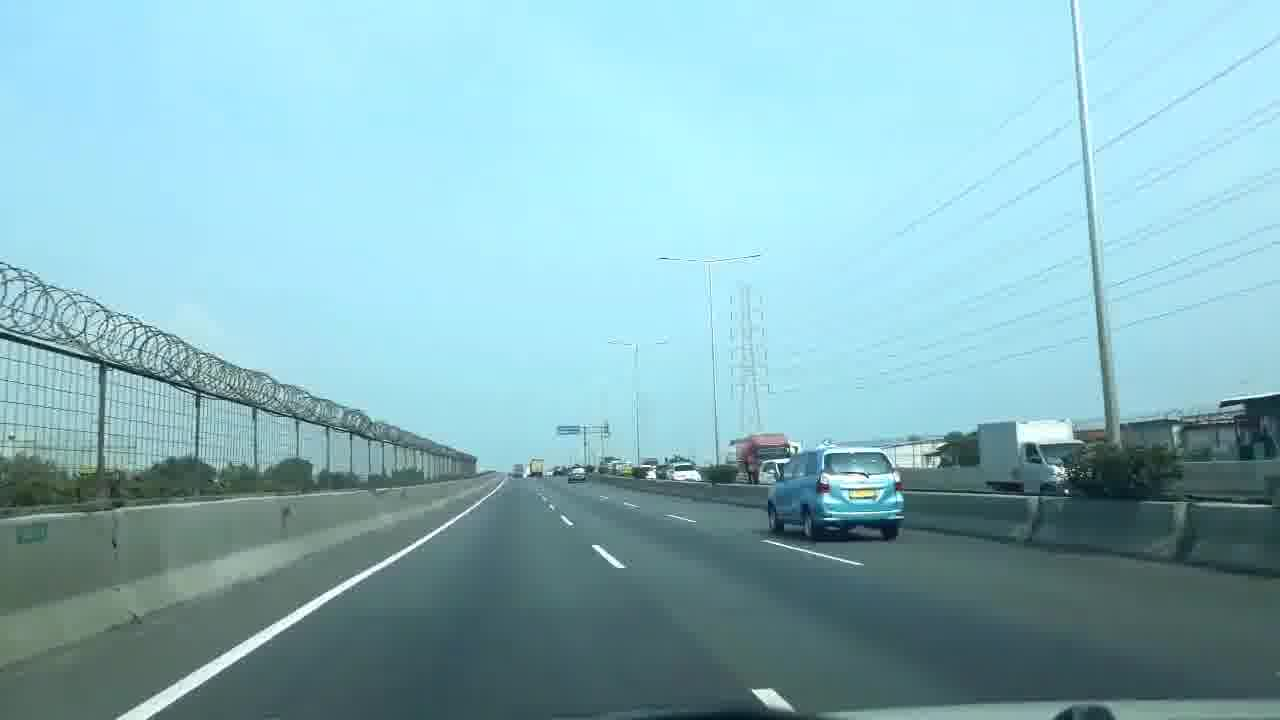plate_positive: (848, 489, 877, 498)
